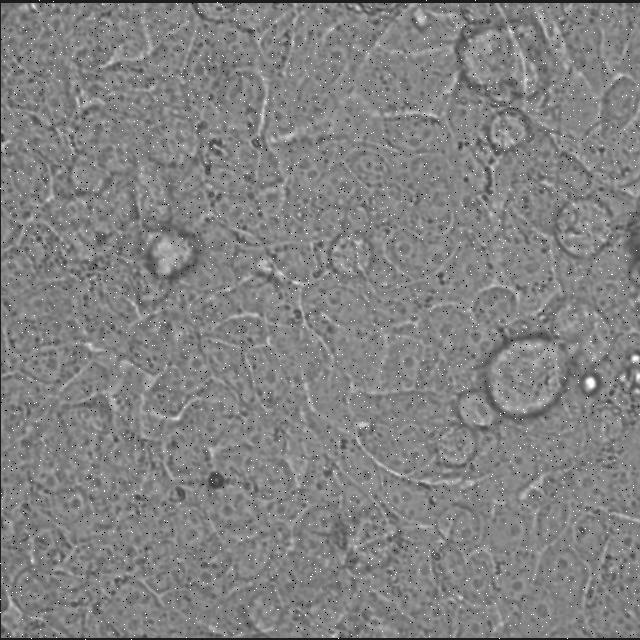microbeads: (580, 366, 598, 399)
